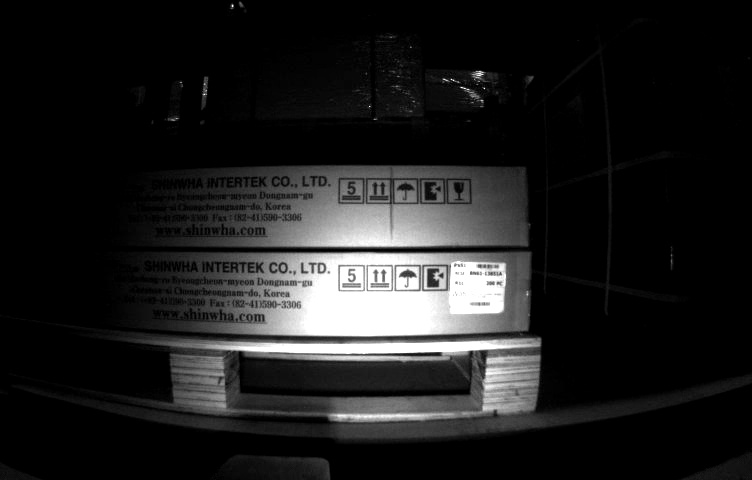True Barcode: (448, 260, 507, 312)
